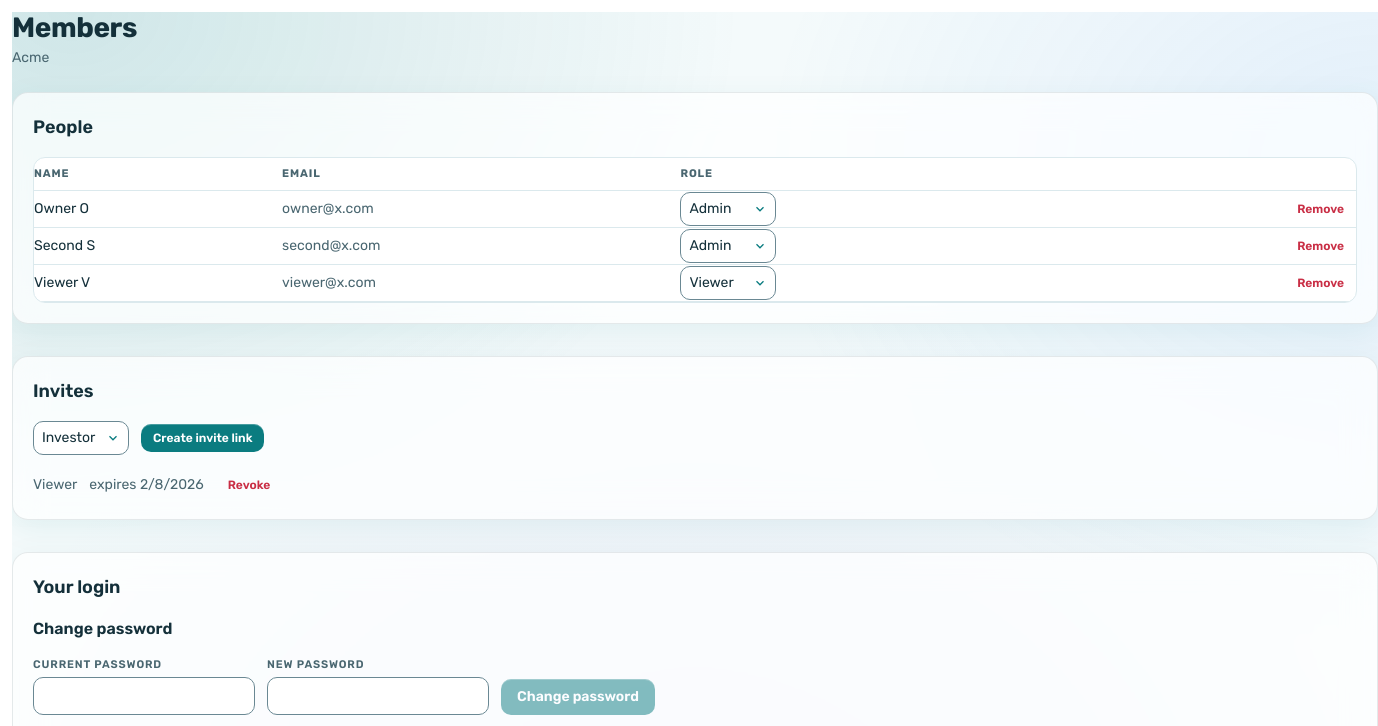
admin can create an invite and sees the link once
Expected: the text "Owner O" is shown, top-left (34, 190), bottom-right (282, 227)
Click the button "Create invite link".
click(203, 438)  # box top-left (141, 424), bottom-right (264, 452)
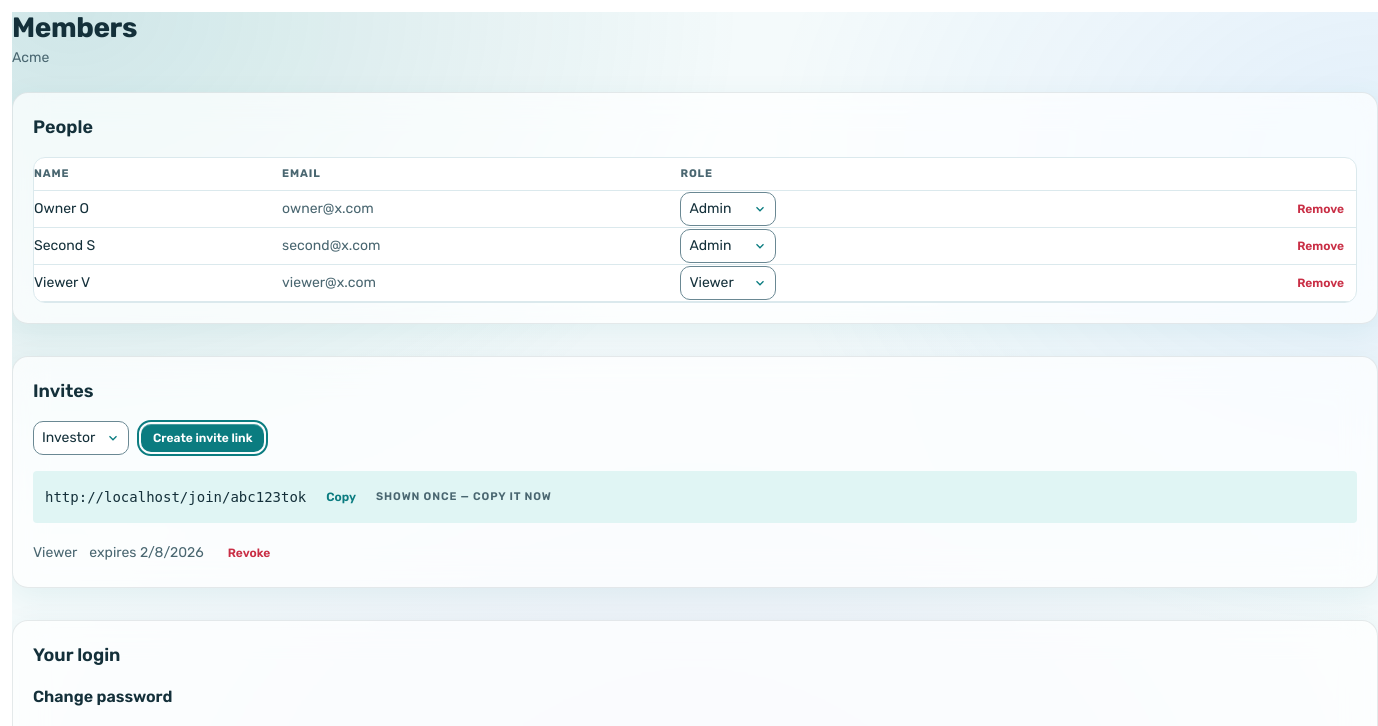
Expected: the text "http://localhost/join/abc123tok" is shown, top-left (45, 487), bottom-right (306, 507)
Expected: the button "Copy" is shown, top-left (314, 483), bottom-right (368, 511)
